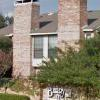Tree: (38, 42, 100, 89)
